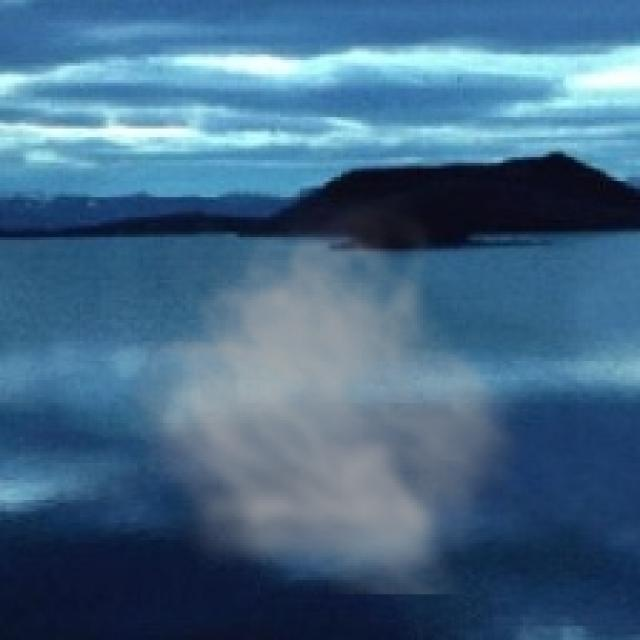smoke: (115, 189, 534, 594)
